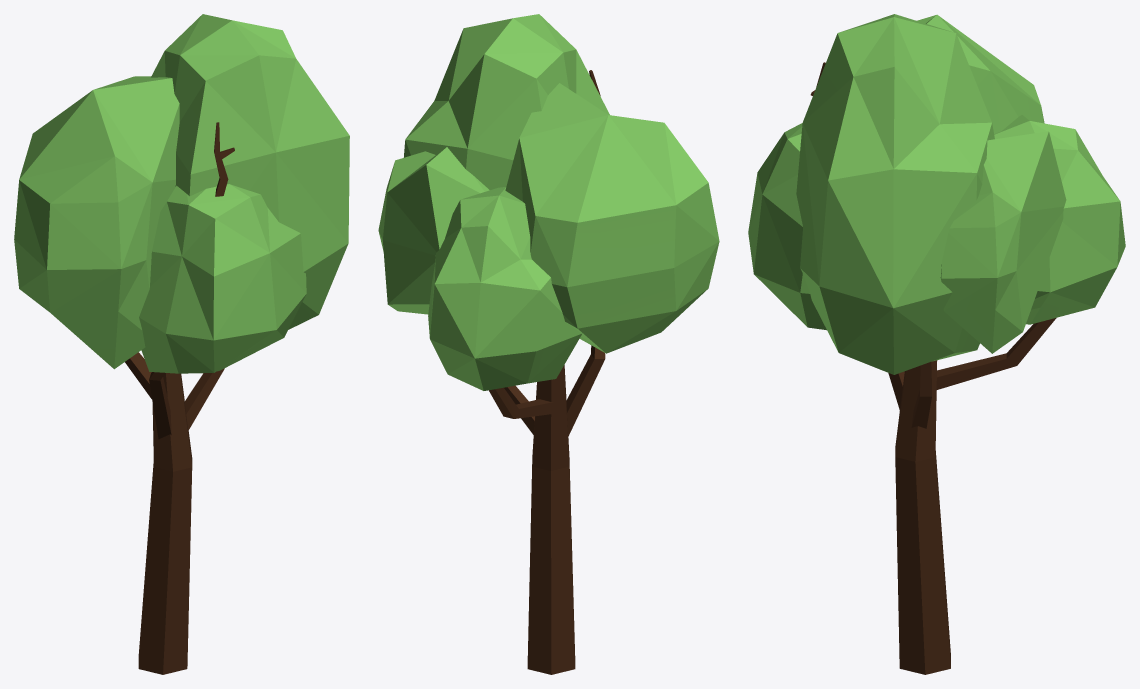
Rendered from Tree2.fbx.
3 renders of one model, left to right at view 1: azimuth 30°, elevation 25°; view 2: azimuth 150°, elevation 25°; view 3: azimuth 270°, elevation 25°, orthographic. The views are drawn at different scales.
Parts seen in each view (by area): view 1: Tree_temp_climate_007; view 2: Tree_temp_climate_007; view 3: Tree_temp_climate_007.
Part boxes in pixels (left/top/right/bottom): Tree_temp_climate_007: left=14, top=14, right=349, bottom=674; Tree_temp_climate_007: left=378, top=14, right=719, bottom=674; Tree_temp_climate_007: left=748, top=14, right=1125, bottom=674.
Bounding box in the file's own units: 292 × 584 × 297.
